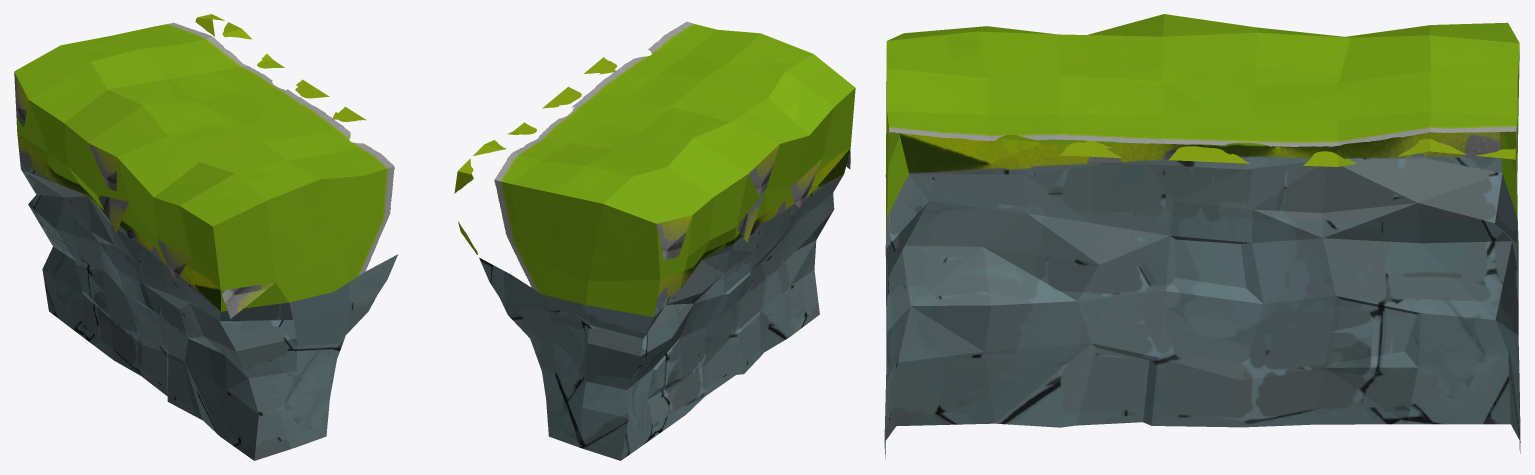
The model's file is rocks_wall_02.fbx.
3 renders of one model, left to right at view 1: azimuth 30°, elevation 25°; view 2: azimuth 150°, elevation 25°; view 3: azimuth 270°, elevation 25°, orthographic. The views are drawn at different scales.
Visible parts, largest first — view 1: Cube; view 2: Cube; view 3: Cube.
Boxes of the visible parts, x1,y1,x2,y2 form: Cube: [14, 14, 397, 460]; Cube: [454, 21, 855, 460]; Cube: [884, 14, 1520, 458].
Size of the model in its own units: 369 by 439 by 625.
